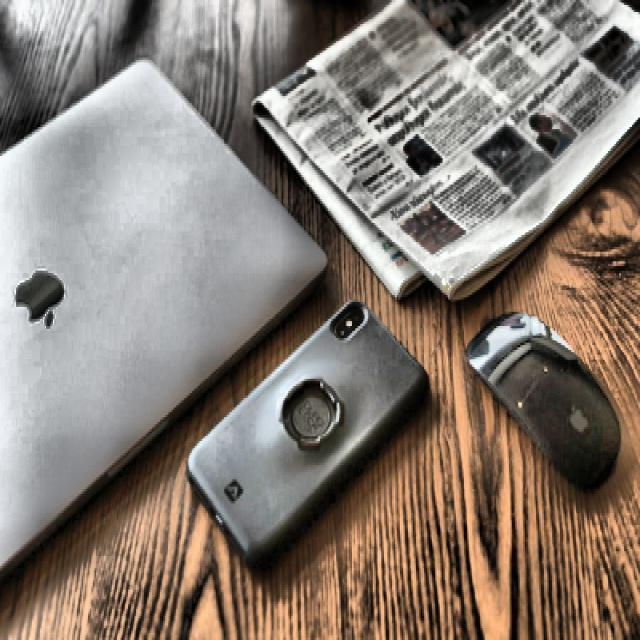Phone: (188, 300, 430, 576)
